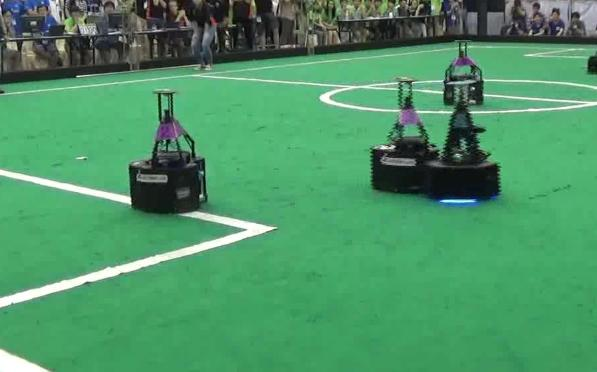robot: (121, 83, 213, 214), (429, 78, 507, 202), (368, 77, 441, 196), (440, 37, 491, 108)
